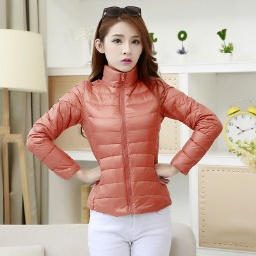face: (90, 6, 155, 76)
